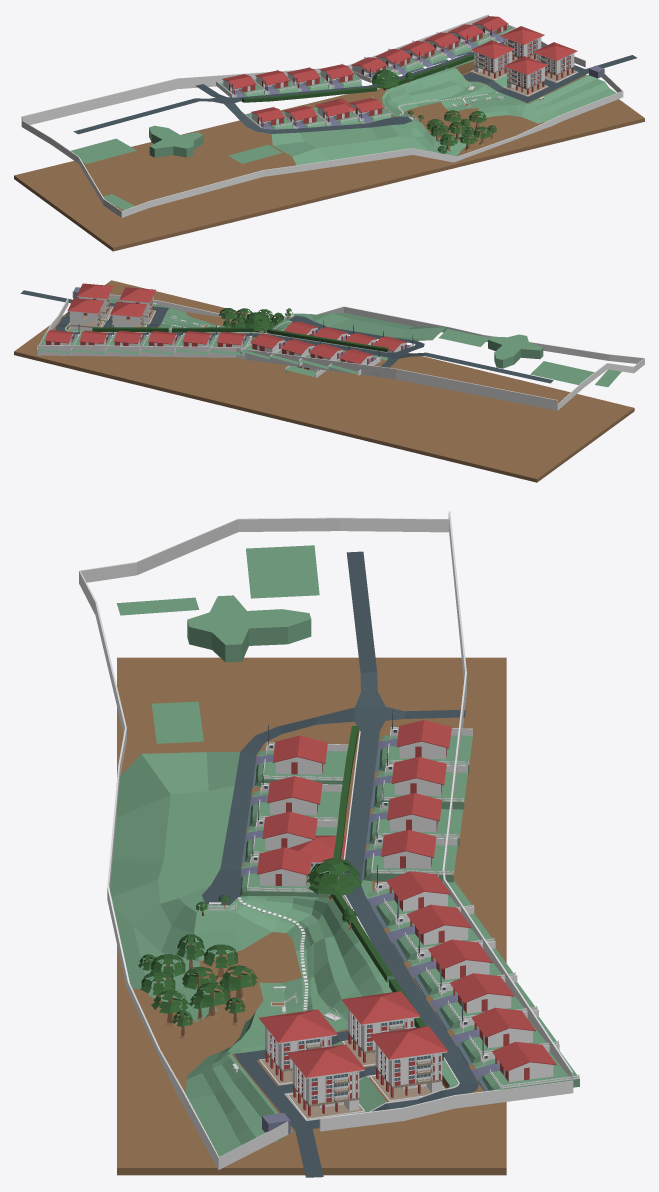
3 renders of one model, top to bottom at view 1: azimuth 30°, elevation 25°; view 2: azimuth 150°, elevation 25°; view 3: azimuth 270°, elevation 25°, orthographic. The views are drawn at different scales.
Parts seen in each view (by area): view 1: Length-310m, grama, muro, rua, clube, red.003, red.005, cerca-viva, red.001, red.004, cerca-casa.010, cerca-casa.012 (+13 smaller); view 2: Length-310m, muro, grama, clube, rua, cerca-viva, red.004, red.005, red.001, red.003, cerca-casa.006, cerca-casa.007 (+13 smaller); view 3: Length-310m, grama, rua, muro, clube, red.001, red.004, cerca-casa.007, cerca-casa.014, cerca-casa.001, cerca-casa.009, cerca-casa.005 (+13 smaller).
Part boxes in pixels (<box>): Length-310m: <box>14,71,644,251</box>; grama: <box>271,59,616,165</box>; muro: <box>21,14,623,217</box>; rua: <box>73,41,636,134</box>; clube: <box>71,125,282,210</box>; red.003: <box>503,56,548,96</box>; red.005: <box>471,40,514,80</box>; cerca-viva: <box>241,54,474,102</box>; red.001: <box>533,42,577,82</box>; red.004: <box>500,26,544,61</box>; cerca-casa.010: <box>216,73,264,97</box>; cerca-casa.012: <box>313,101,359,126</box>; Length-310m: <box>14,280,634,482</box>; muro: <box>37,291,644,410</box>; grama: <box>66,299,447,340</box>; clube: <box>438,329,621,387</box>; rua: <box>20,290,553,383</box>; cerca-viva: <box>92,327,388,351</box>; red.004: <box>67,298,104,329</box>; red.005: <box>110,301,146,327</box>; red.001: <box>76,283,113,320</box>; red.003: <box>119,287,155,323</box>; cerca-casa.006: <box>209,326,252,356</box>; cerca-casa.007: <box>240,332,291,360</box>; Length-310m: <box>117,657,506,1175</box>; grama: <box>110,751,458,1156</box>; rua: <box>202,551,478,1177</box>; muro: <box>79,511,573,1169</box>; clube: <box>116,545,319,743</box>; red.001: <box>286,1044,365,1119</box>; red.004: <box>369,1026,448,1101</box>; cerca-casa.007: <box>361,819,457,882</box>; cerca-casa.014: <box>252,725,348,786</box>; cerca-casa.001: <box>471,1035,579,1091</box>; cerca-casa.009: <box>370,746,467,809</box>; cerca-casa.005: <box>386,898,494,962</box>.
Bounding box in the file's own units: 338 × 41.7 × 129.
